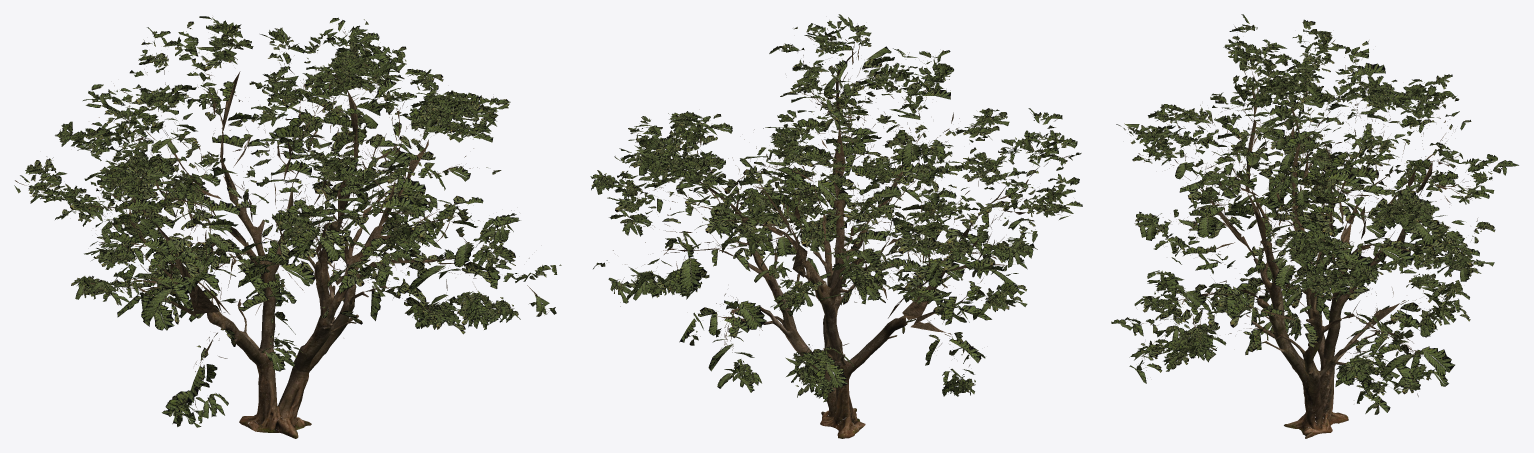
The model's file is jacaranda_tree.glb.
The picture shows the model from 3 angles, left to right: view 1: azimuth 30°, elevation 25°; view 2: azimuth 150°, elevation 25°; view 3: azimuth 270°, elevation 25°; orthographic projection. The views are drawn at different scales.
Parts seen in each view (by area): view 1: jacaranda_tree_LOD0, jacaranda_tree_LOD0.002, jacaranda_tree_LOD0.001; view 2: jacaranda_tree_LOD0, jacaranda_tree_LOD0.001, jacaranda_tree_LOD0.002; view 3: jacaranda_tree_LOD0, jacaranda_tree_LOD0.001, jacaranda_tree_LOD0.002.
Part boxes in pixels (box(x1,y1,x2,y2)): jacaranda_tree_LOD0: box(14, 16, 561, 427); jacaranda_tree_LOD0.002: box(207, 207, 390, 438); jacaranda_tree_LOD0.001: box(15, 29, 548, 409); jacaranda_tree_LOD0: box(590, 14, 1082, 402); jacaranda_tree_LOD0.001: box(613, 21, 1070, 389); jacaranda_tree_LOD0.002: box(746, 199, 907, 438); jacaranda_tree_LOD0: box(1111, 14, 1518, 414); jacaranda_tree_LOD0.001: box(1124, 26, 1500, 402); jacaranda_tree_LOD0.002: box(1252, 240, 1388, 438).
Bounding box in the file's own units: 24.19 × 19.35 × 19.3.
3 materials, 3 textured.
